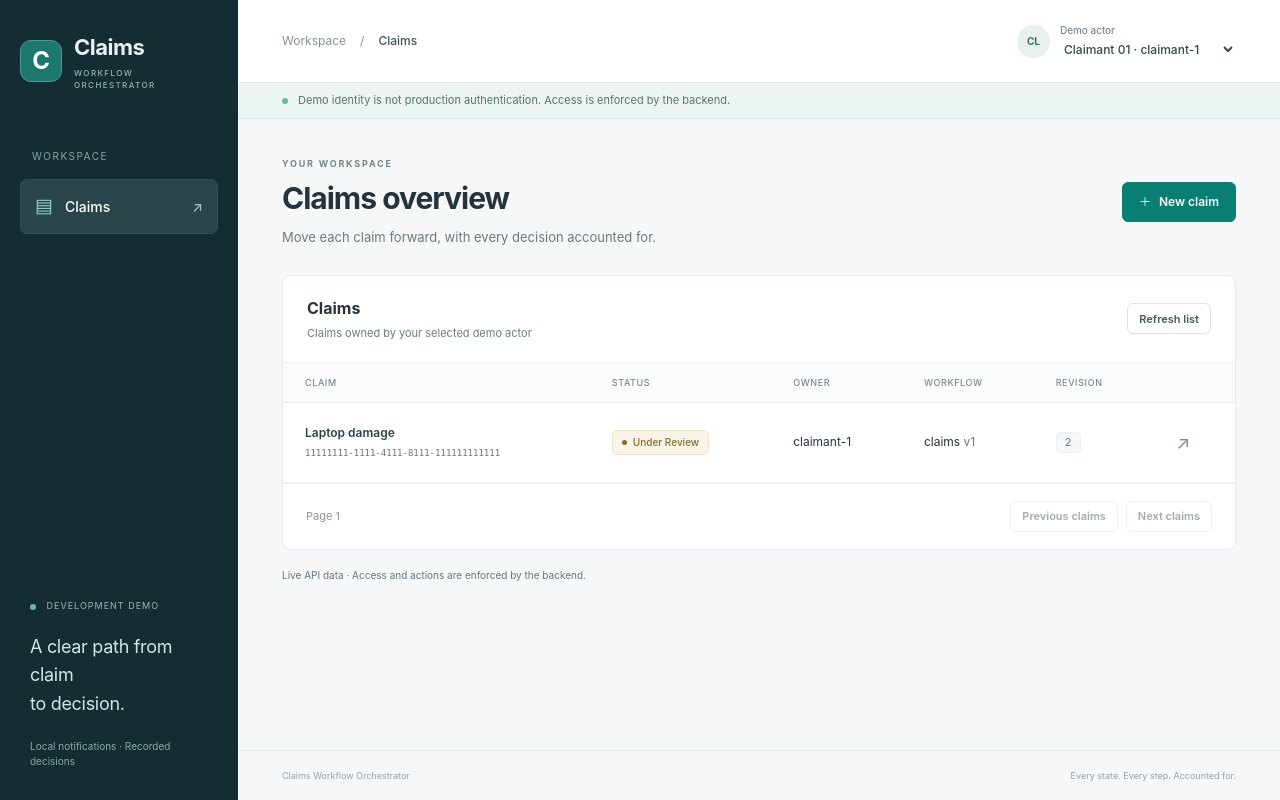
Scenario: claims demo workspace › refreshes detail, discovery, and history after successful execution
Click the button named "Open Laptop damage". click: (1183, 442)
box: x1=1172 y1=425 x2=1194 y2=460
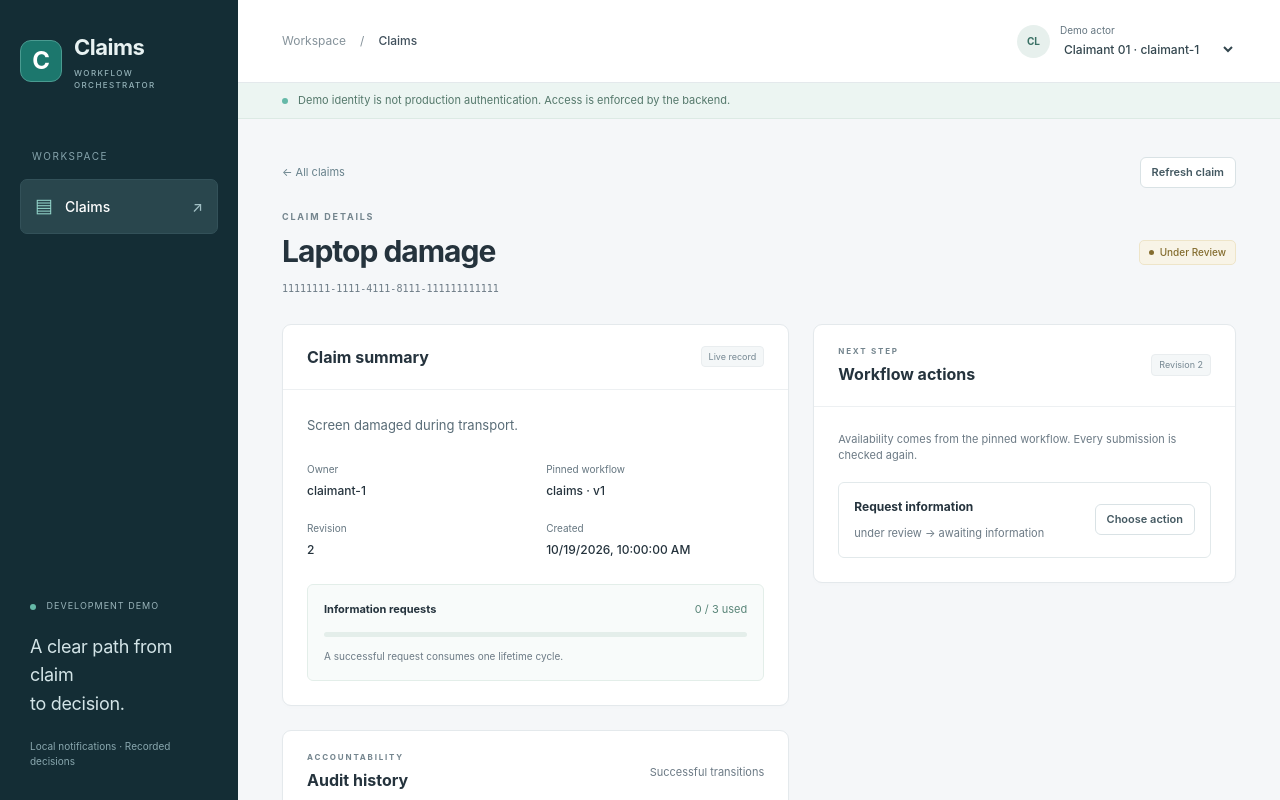
Click the button "Choose action". click: (1145, 520)
box: x1=1094 y1=504 x2=1195 y2=535
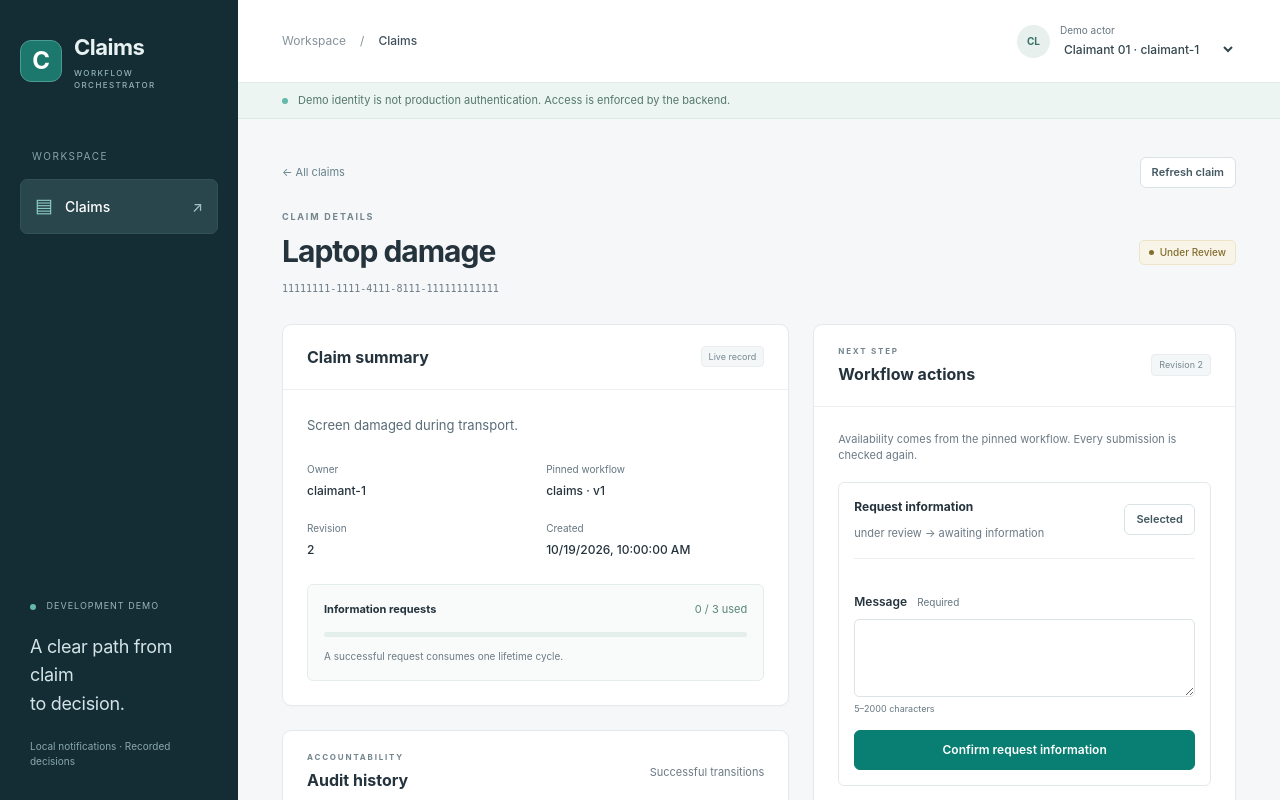
Type "Please provide details" into the text box labelled "Message Required". click: (1025, 658)
box: x1=854 y1=618 x2=1195 y2=696
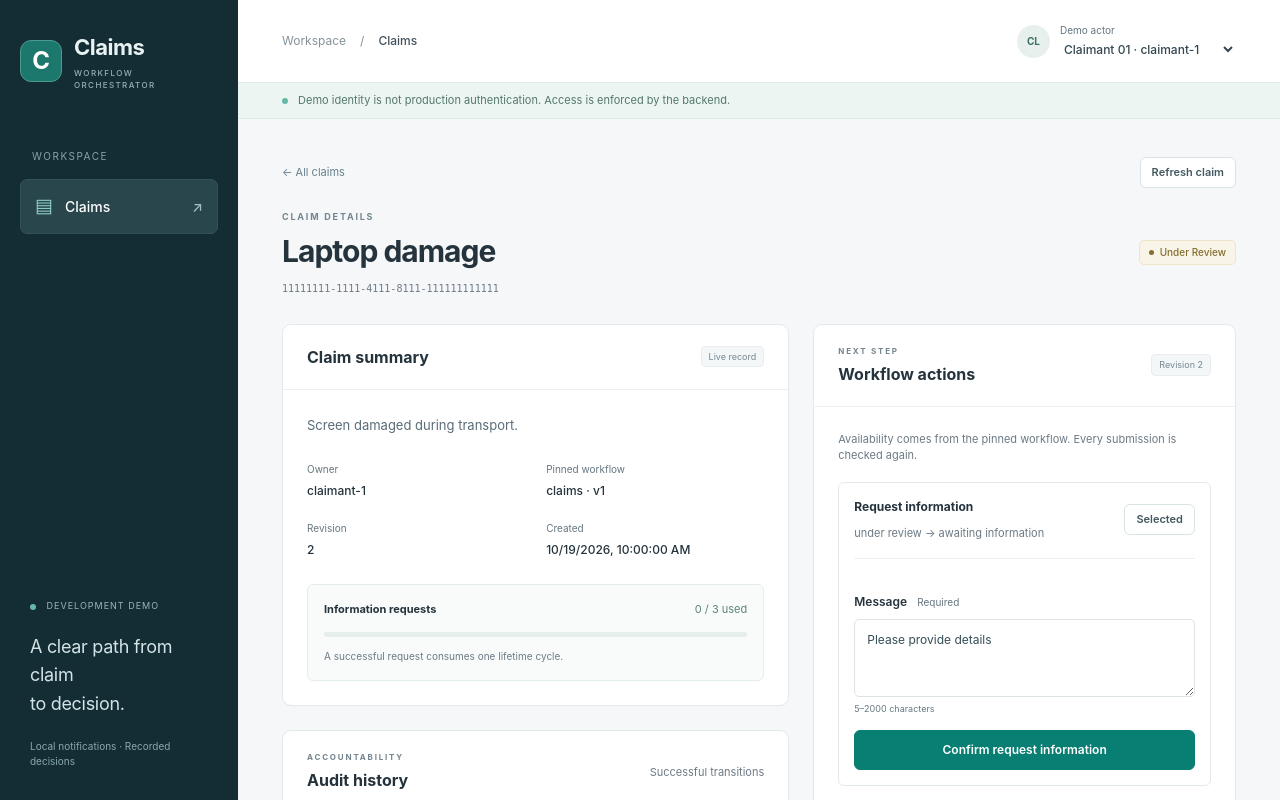
Submit the form named "Request information form", box x1=854 y1=558 x2=1195 y2=770
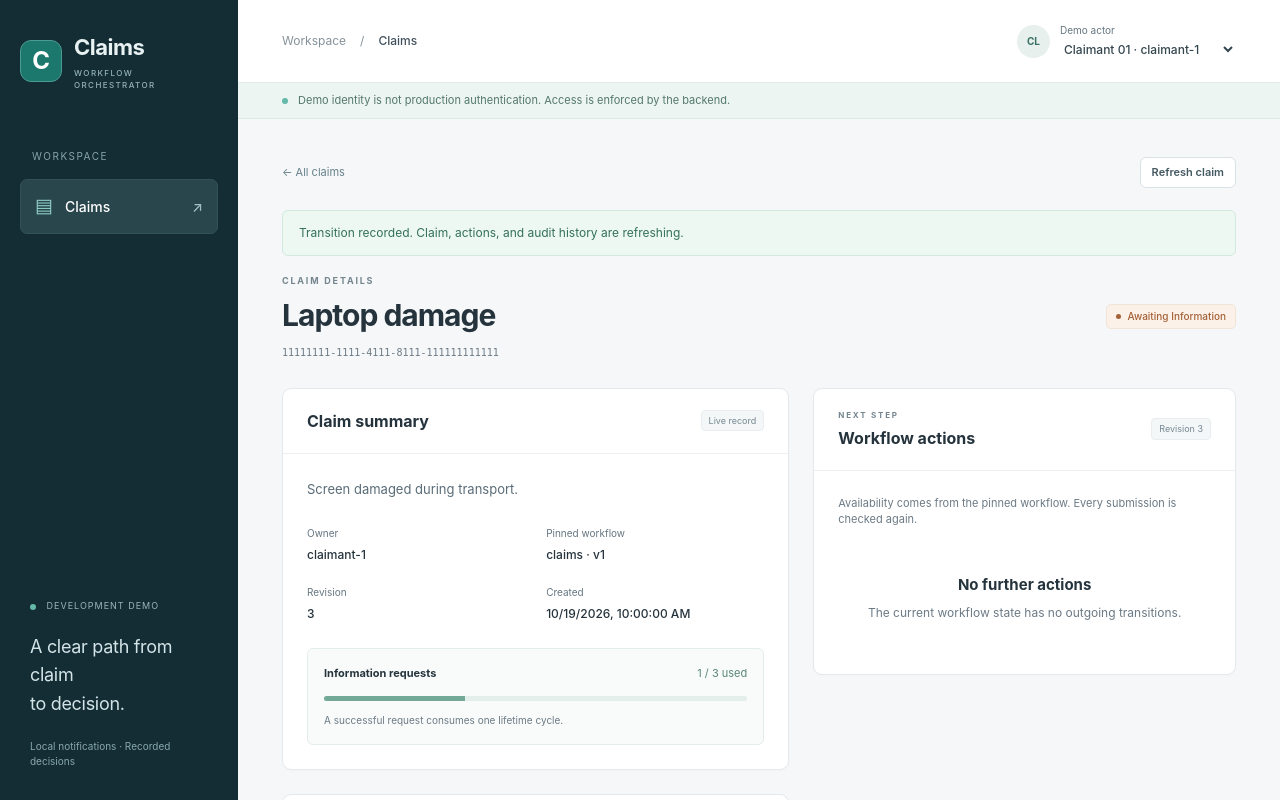
Now the progress indicator holds "1", box x1=324 y1=696 x2=747 y2=701
Now the heading "No further actions" is shown, box x1=958 y1=574 x2=1091 y2=594
